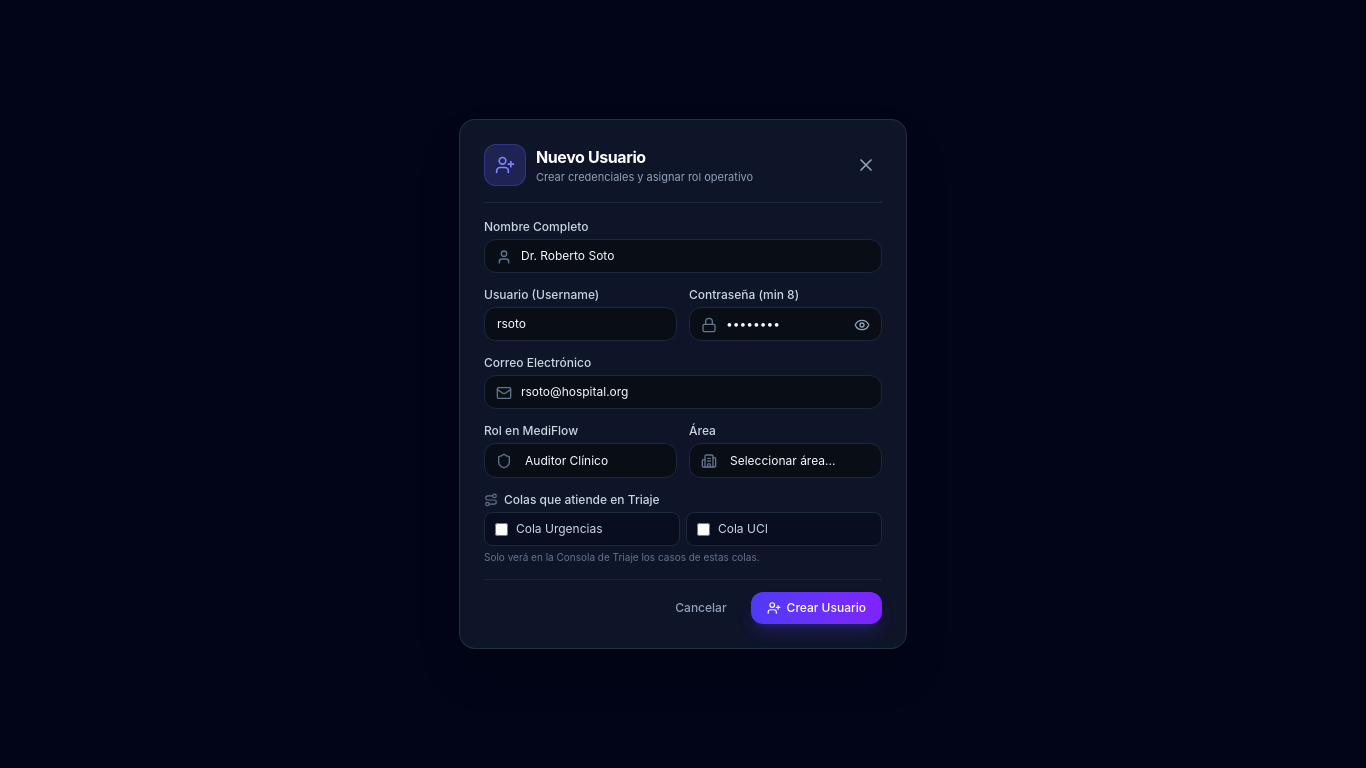
Test case: UserFormModal user management and role assignment › validates mandatory area selection before submitting
Type "Dra. Ana Lopez" into the field labelled "Nombre Completo" at x=683, y=256, box [484, 239, 882, 273]
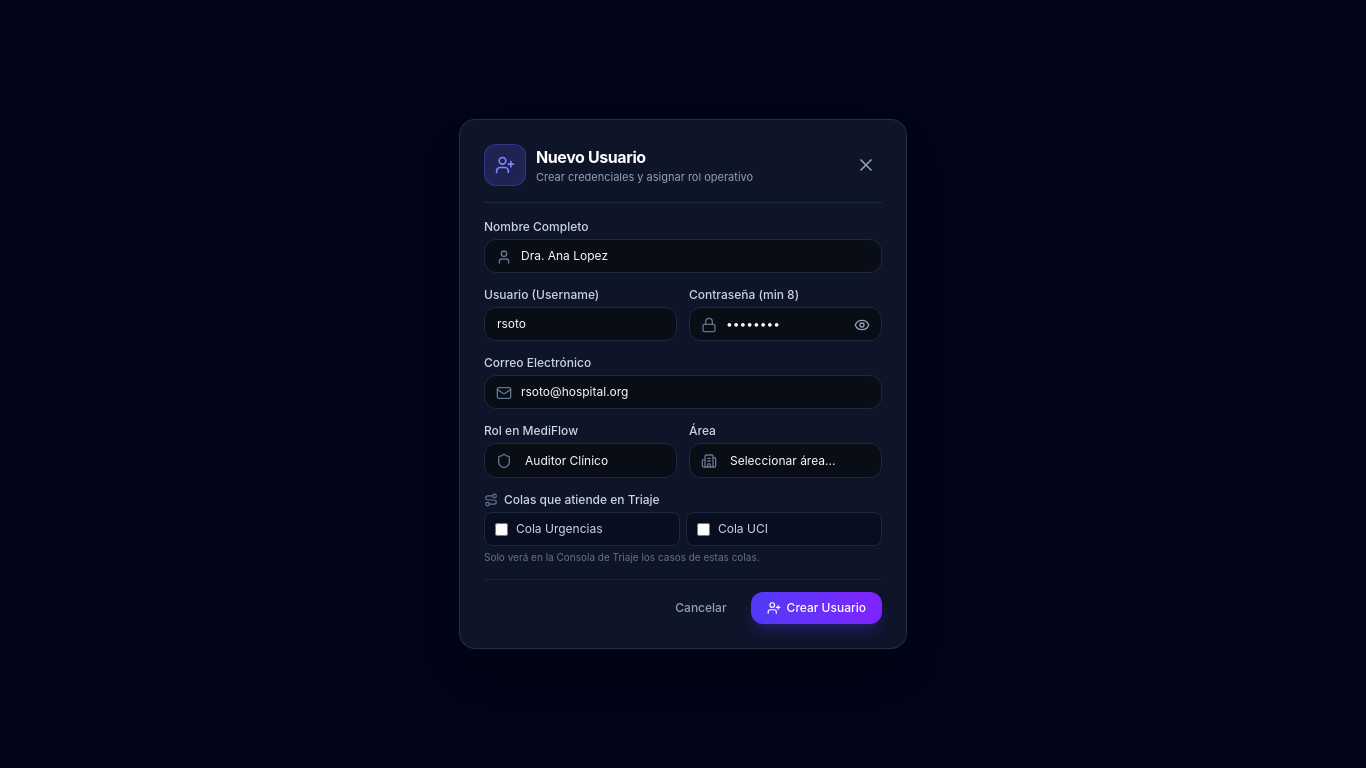
Type "alopez" into the field labelled "Usuario (Username)" at x=580, y=324, box [484, 307, 677, 341]
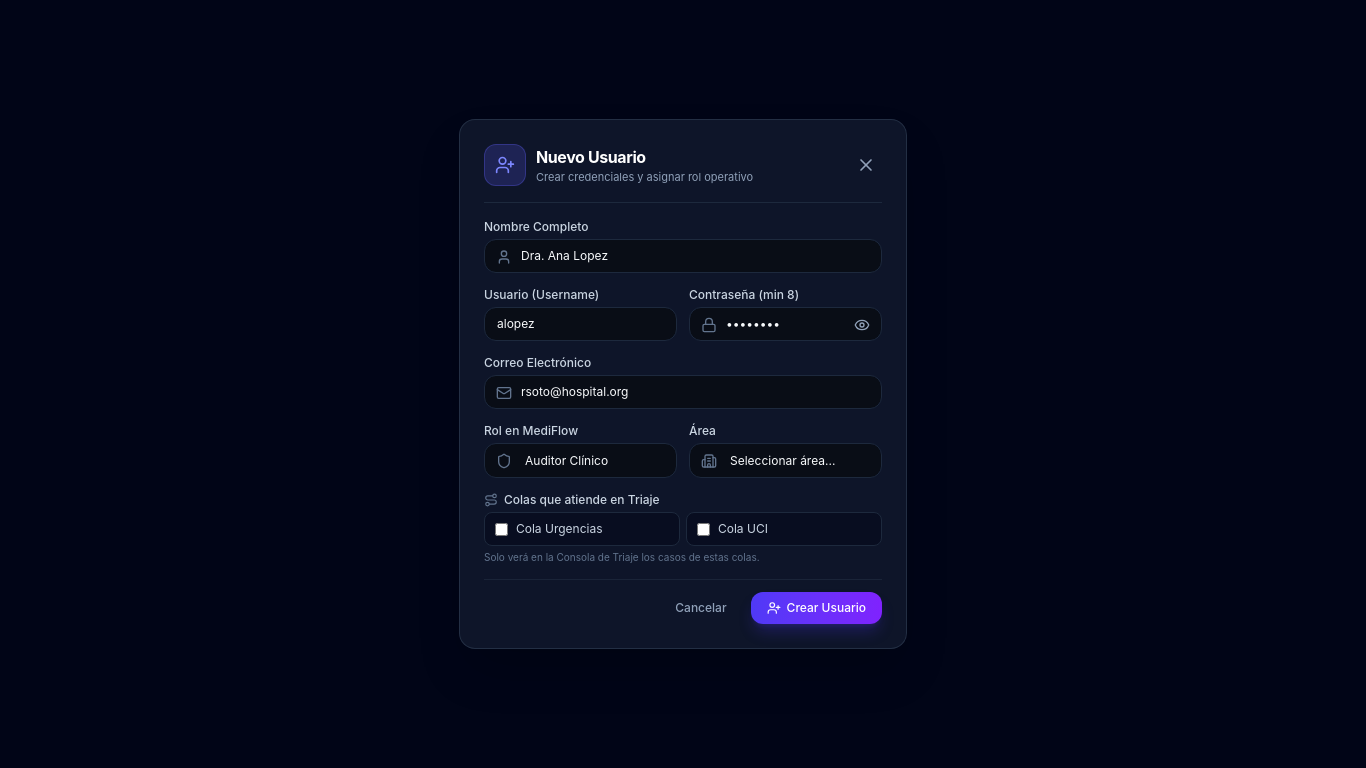
Type "alopez@hospital.org" into the field labelled "Correo Electrónico" at x=683, y=392, box [484, 375, 882, 409]
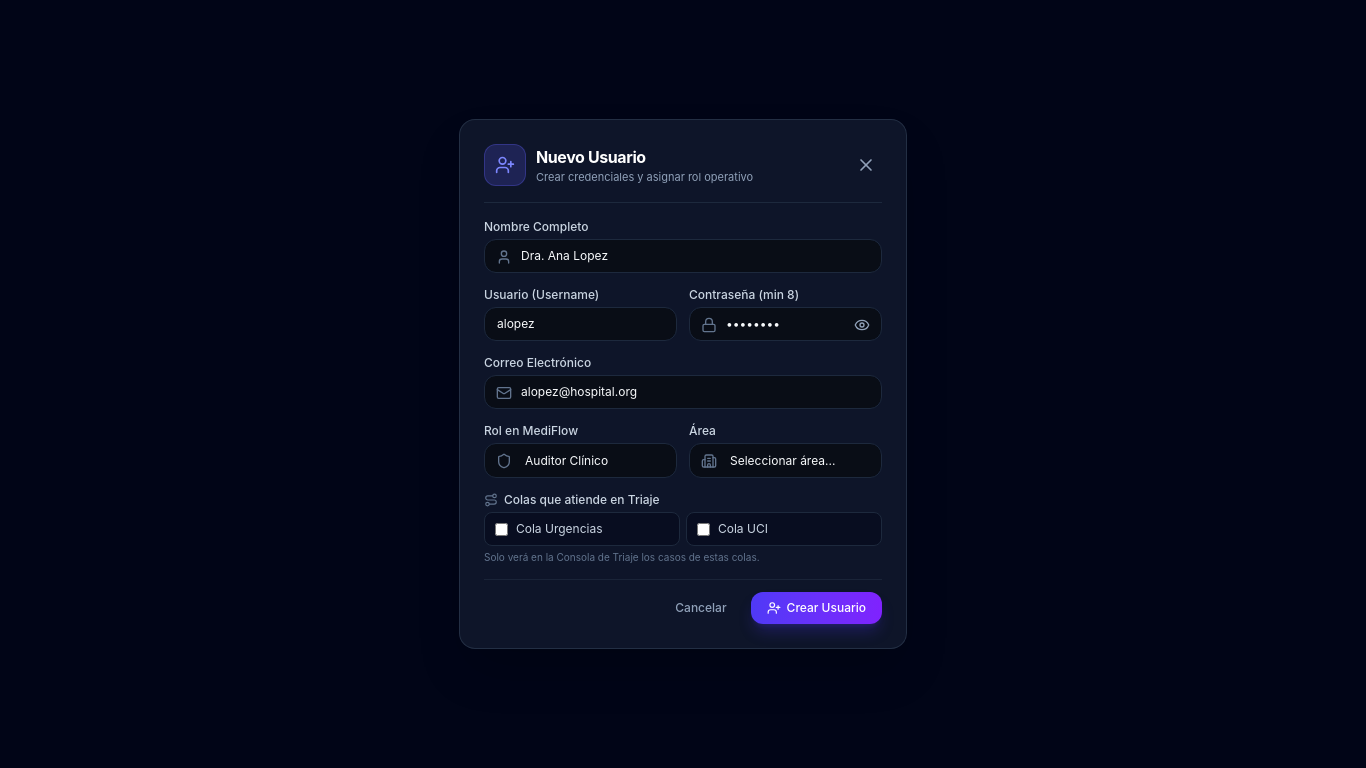
Type "Password123!" into the password field with placeholder "••••••••" at x=786, y=324, box [689, 307, 882, 341]
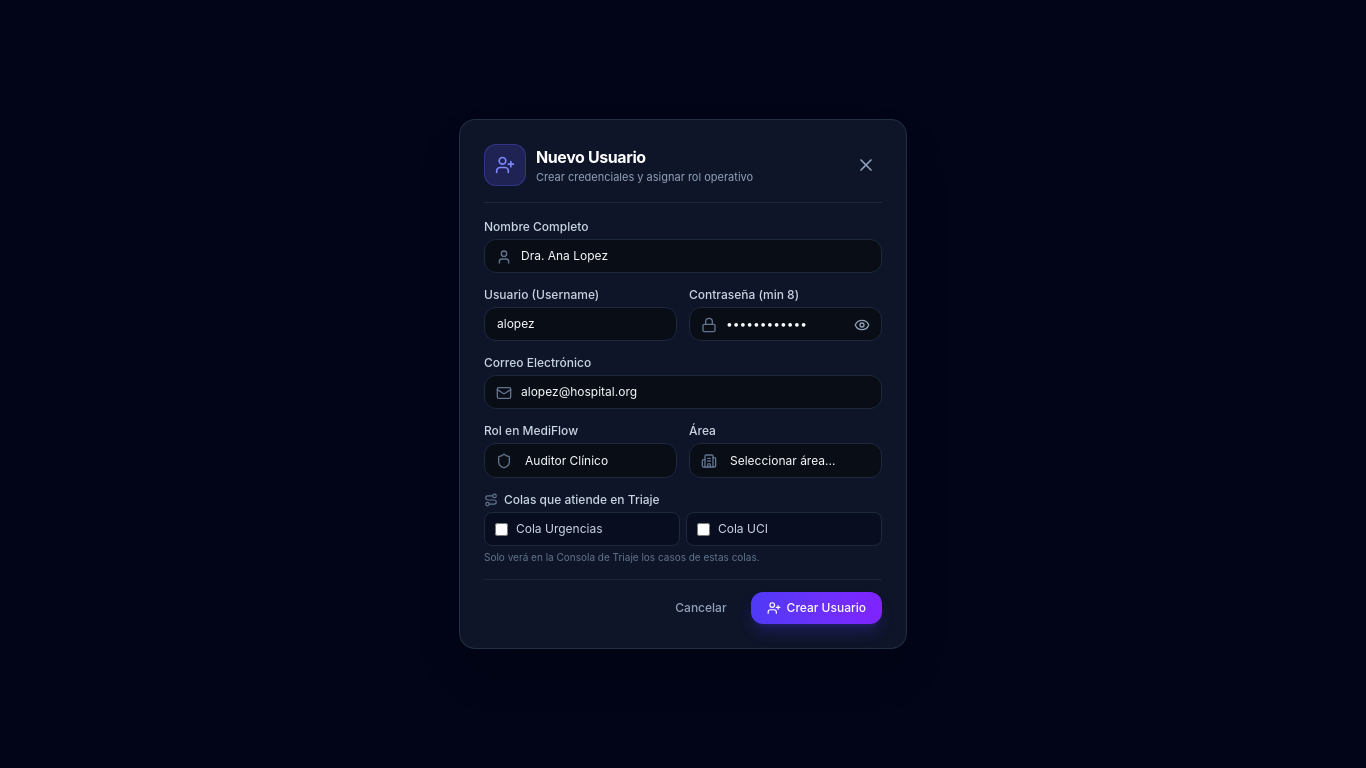
Submit the form from the button "Crear Usuario", box [751, 592, 882, 624]
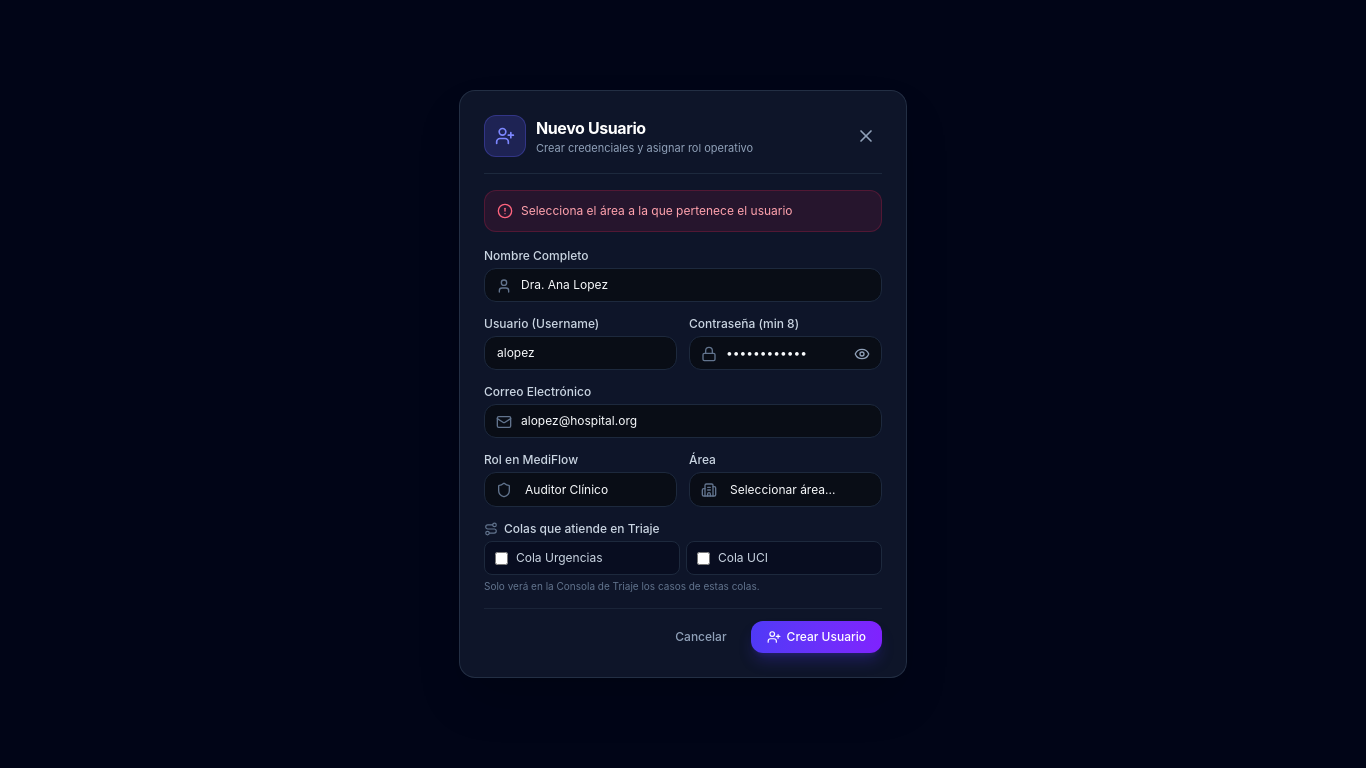
Now the text "Selecciona el área a la que pertenece el usuario" is shown, box [521, 203, 793, 219]
